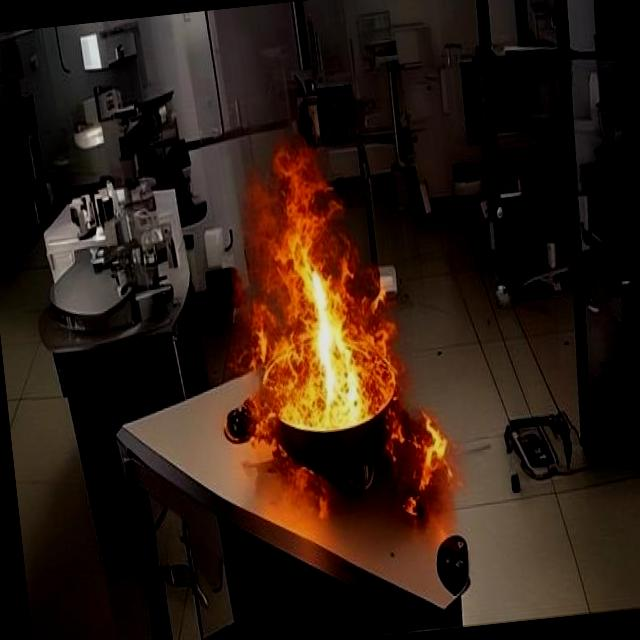fire: (201, 110, 446, 549)
